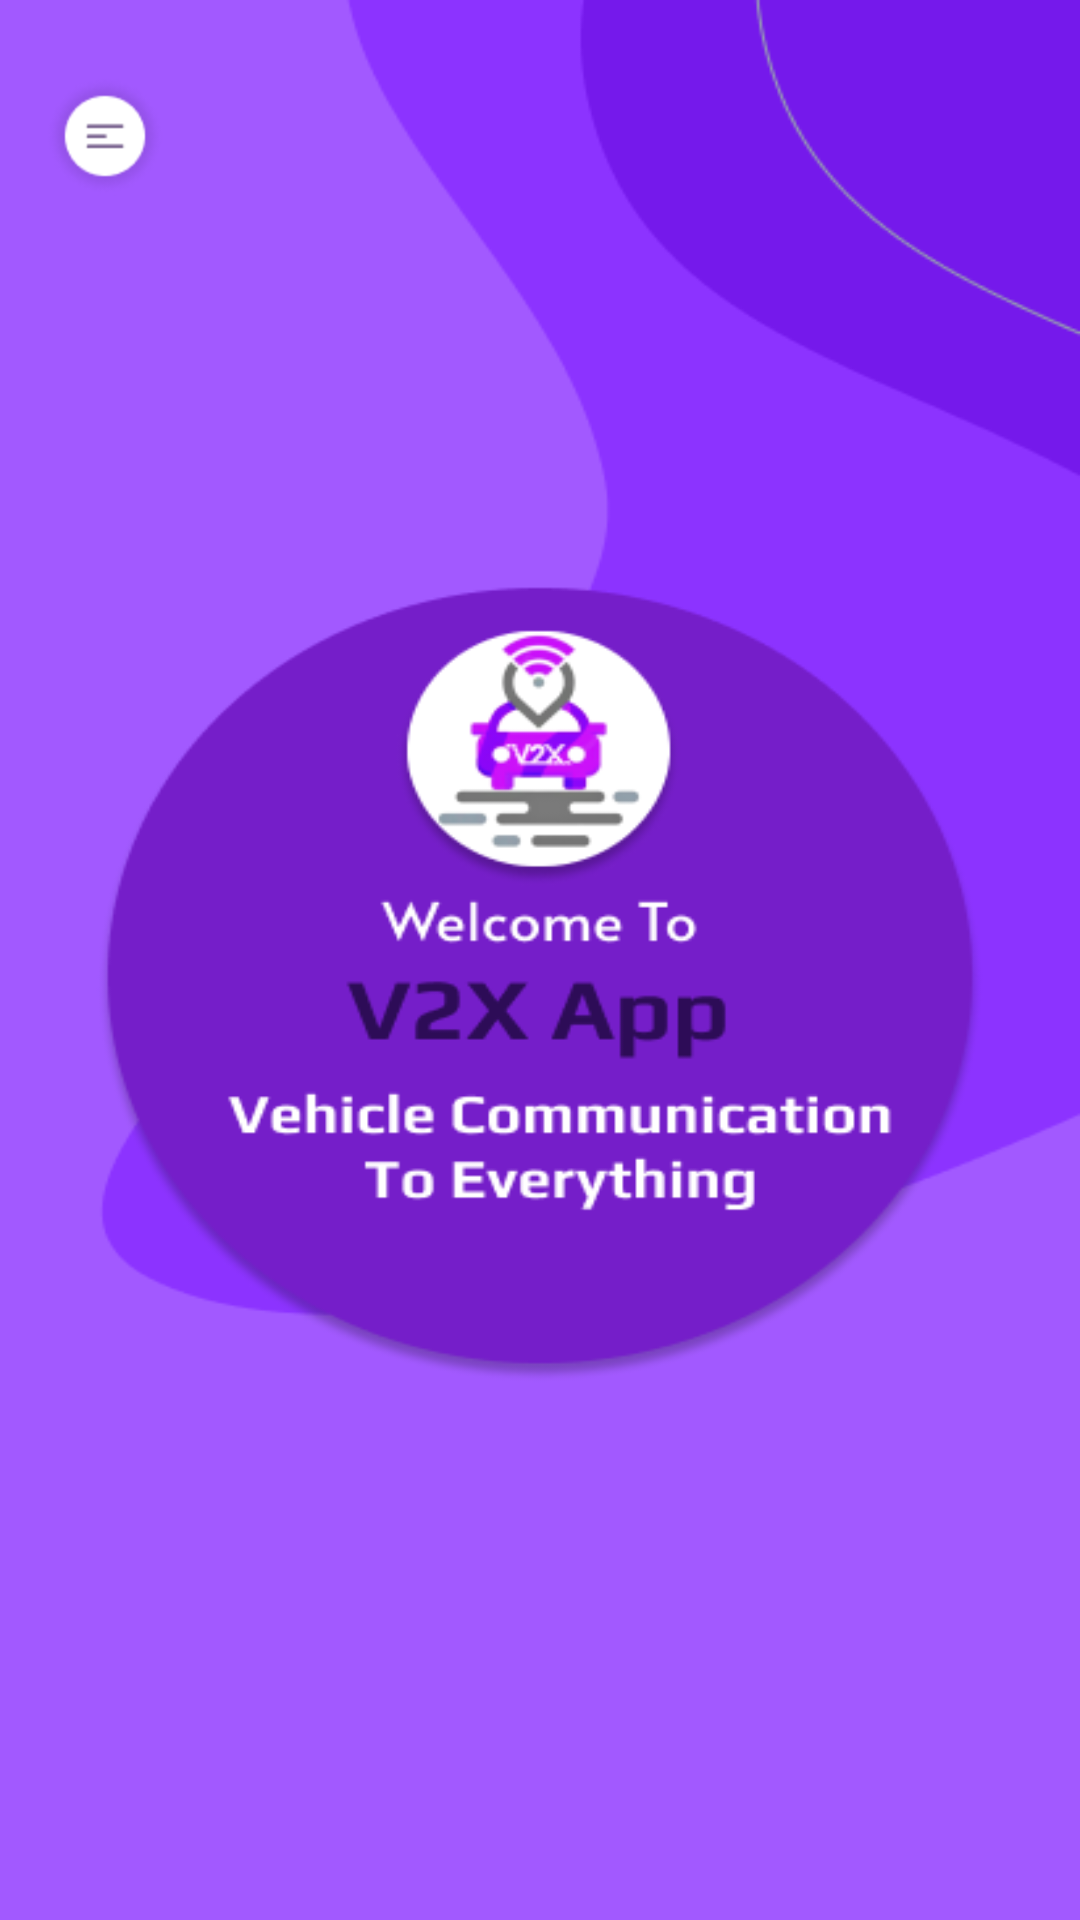

Screen size 1080 × 1920. Icon name, then its center in pixels as [x,y]:
menu: [105,136]
